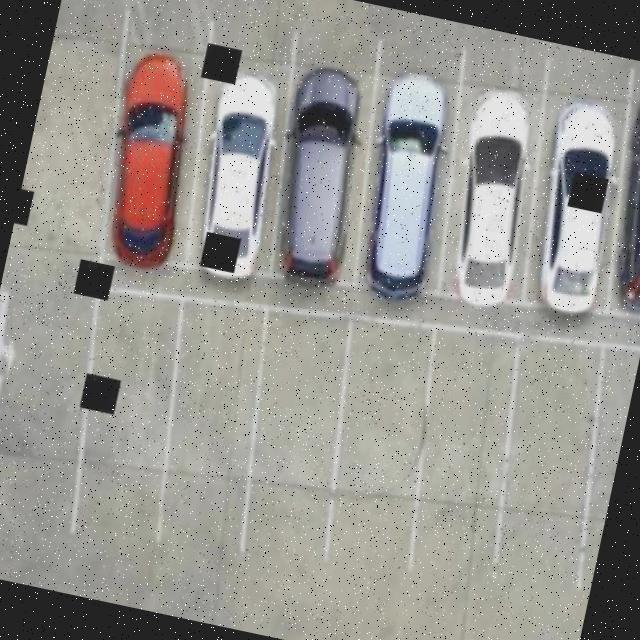Car: (418, 53, 571, 338), (330, 40, 486, 319), (72, 31, 232, 295), (248, 45, 398, 306), (166, 48, 314, 300), (497, 84, 640, 344), (570, 57, 640, 321)
Vacant: (467, 339, 622, 622), (391, 327, 544, 605), (133, 298, 290, 566), (222, 304, 370, 570), (51, 283, 200, 546), (306, 315, 455, 576), (540, 344, 640, 618)
